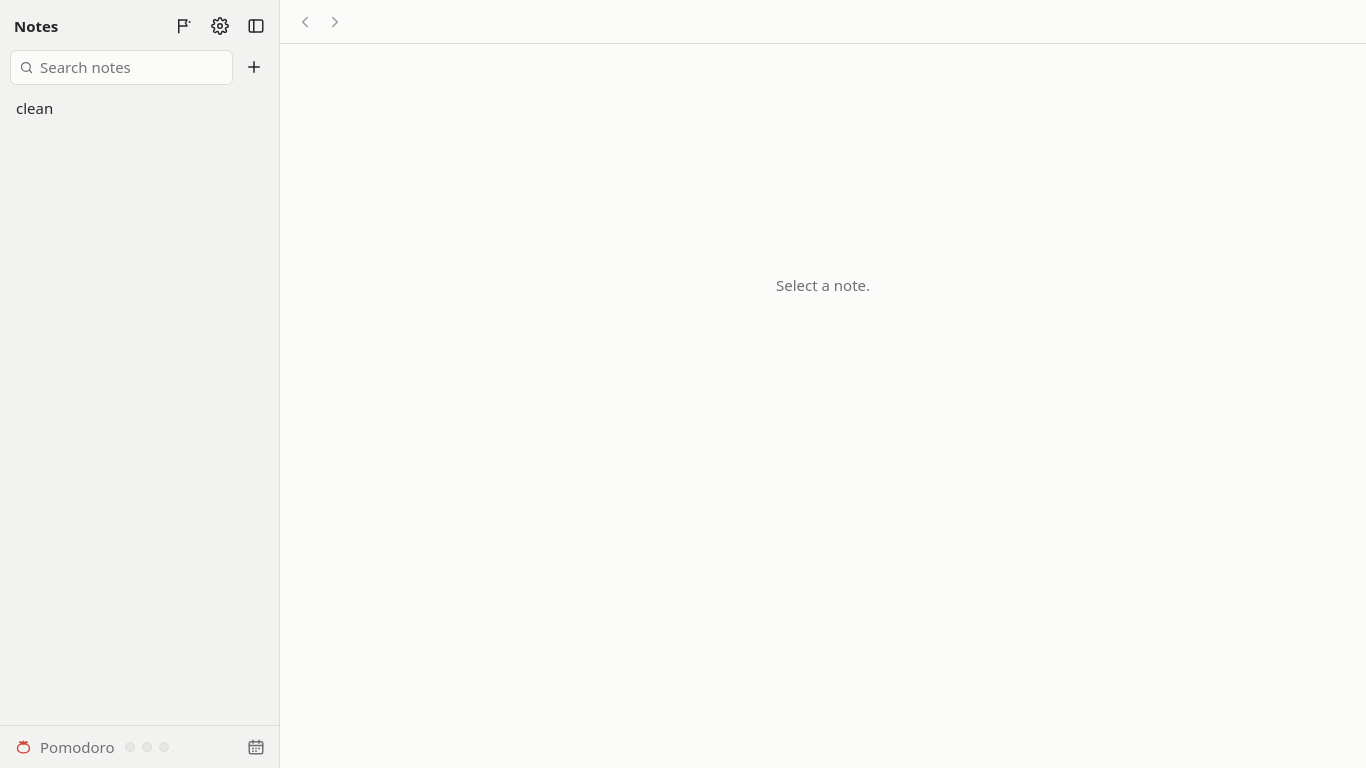
Test: unresolved page › shows the empty state when nothing is flagged
Click the button named "Unresolved (0)": (184, 26) [169,11,199,41]
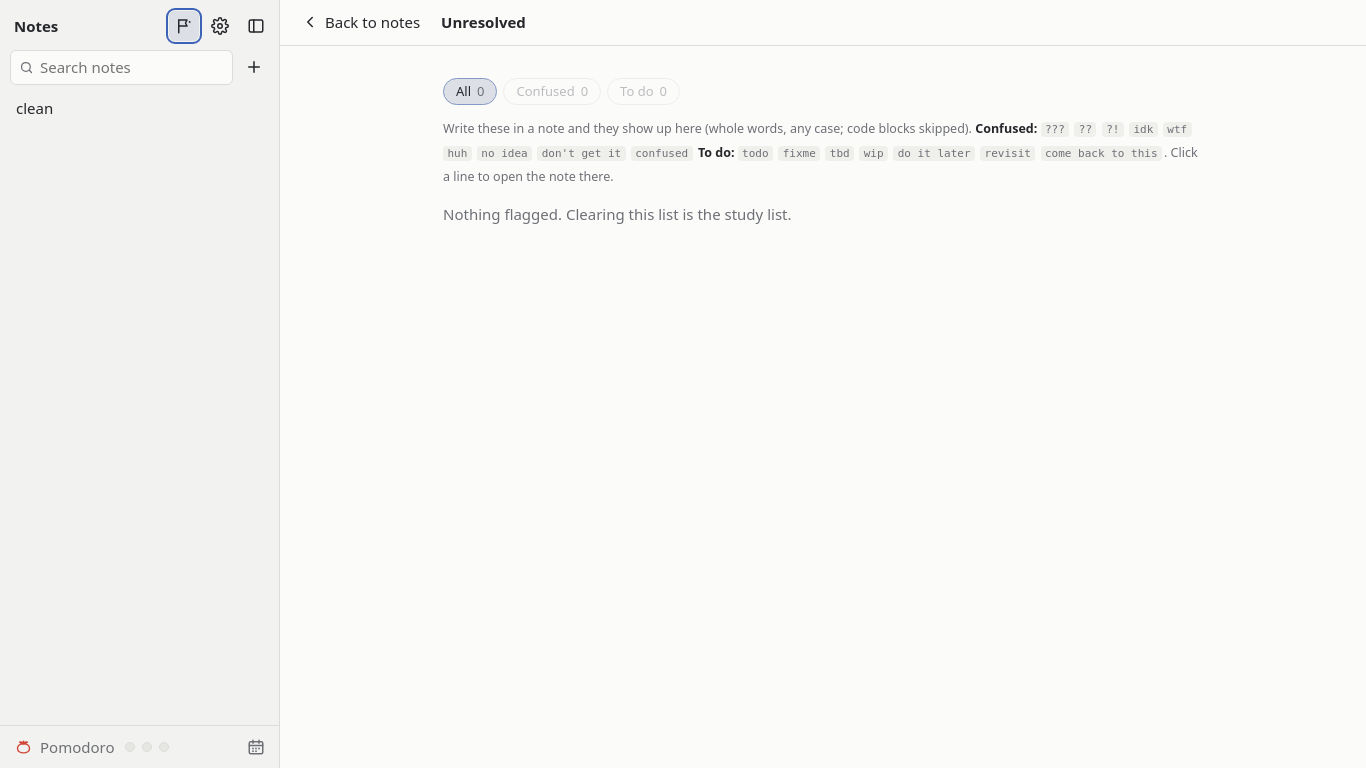
Expected: the element "Unresolved" shows "Nothing flagged.", [443,204,792,224]
